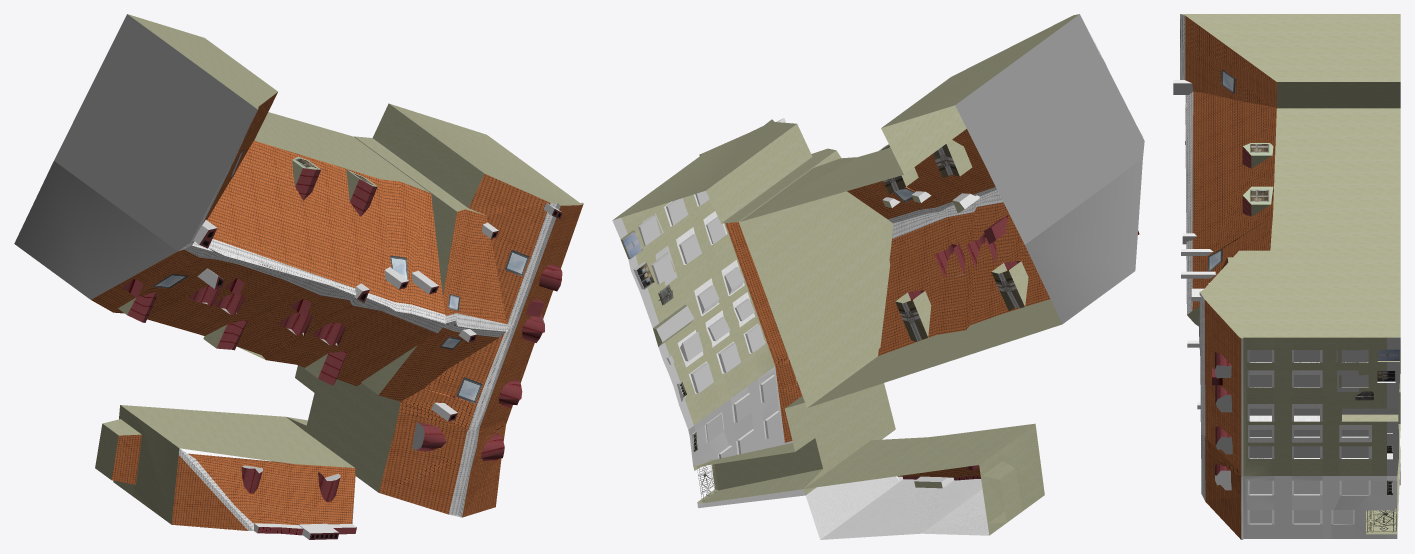
File: Rataskaevu_22_1-origo.obj
3 renders of one model, left to right at view 1: azimuth 30°, elevation 25°; view 2: azimuth 150°, elevation 25°; view 3: azimuth 270°, elevation 25°, orthographic. The views are drawn at different scales.
Parts seen in each view (by area): view 1: Rataskaevu_22_1; view 2: Rataskaevu_22_1; view 3: Rataskaevu_22_1.
Boxes of the visible parts, <box> form: Rataskaevu_22_1: <box>14,14,583,539</box>; Rataskaevu_22_1: <box>612,14,1144,539</box>; Rataskaevu_22_1: <box>1173,14,1400,539</box>.
Bounding box in the file's own units: 40.5 × 40 × 19.97.
